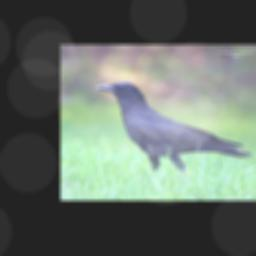Crow: (96, 81, 254, 180)
